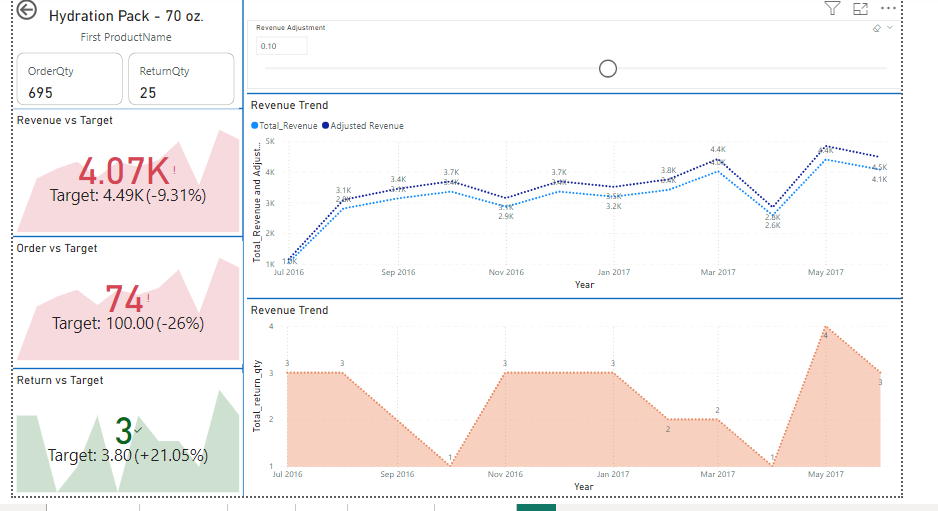

The dashboard page shown, as its layout file describes it:
{"tool":"powerbi","page":{"name":"Products","canvas":[1280,720],"ordinal":1},"visuals":[{"type":"card","fields":{"Values":["Min(d- Products.ProductName)"]},"box":[0,0,325.4,76.3],"z":0},{"type":"lineChart","title":"Revenue Trend","fields":{"Y":["All Measures.Total_Revanue","All Measures.Adjusted Revenue"],"Category":["d- Calendar.Start of Month.Variation.Date Hierarchy.Year","d- Calendar.Start of Month.Variation.Date Hierarchy.Quarter","d- Calendar.Start of Month.Variation.Date Hierarchy.Month","d- Calendar.Start of Month.Variation.Date Hierarchy.Day"]},"box":[337,146.9,943.2,282.2],"z":1000},{"type":"kpi","title":"Revenue vs Target","fields":{"Indicator":["All Measures.Total_Revenue"],"TrendLine":["d- Calendar.Start of Month"],"Goal":["All Measures.Target Revenue"]},"box":[0,168.5,331.2,177.1],"z":2000},{"type":"shape","box":[337,429.1,943.2,13],"z":3000},{"type":"areaChart","title":"Revenue Trend","fields":{"Category":["d- Calendar.Start of Month.Variation.Date Hierarchy.Year","d- Calendar.Start of Month.Variation.Date Hierarchy.Quarter","d- Calendar.Start of Month.Variation.Date Hierarchy.Month","d- Calendar.Start of Month.Variation.Date Hierarchy.Day"],"Y":["All Measures.Total_return_qty"]},"box":[337,442.1,943.2,277.9],"z":4000},{"type":"shape","box":[325.4,0,11.5,720],"z":5000},{"type":"shape","box":[0,339.8,331.2,13],"z":6000},{"type":"kpi","title":"Return vs Target","fields":{"TrendLine":["d- Calendar.Start of Month"],"Goal":["All Measures.Target_return"],"Indicator":["All Measures.Total_return_qty"]},"box":[0,542.9,331.2,177.1],"z":7000},{"type":"kpi","title":"Order vs Target","fields":{"TrendLine":["d- Calendar.Start of Month"],"Indicator":["All Measures.Total_Order_Qty"],"Goal":["All Measures.Target Order"]},"box":[0,352.8,331.2,177.1],"z":8000},{"type":"shape","box":[0,155.5,331.2,13],"z":9000},{"type":"shape","box":[0,529.9,331.2,13],"z":10000},{"type":"actionButton","box":[0,0,59.7,39.3],"z":11000},{"type":"cardVisual","fields":{"Data":["Sum(f-sales.OrderQuantity)","Sum(f-Returns.ReturnQuantity)"]},"box":[0,76.3,325.4,86.4],"z":14000},{"type":"shape","box":[337,133.9,943.2,13],"z":15000},{"type":"slicer","fields":{"Values":["Revenue Adjustment.Revenue Adjustment"]},"box":[337,34.6,943.2,99.4],"z":16000}]}

Visuals, with their boxes on the page's 1280x720 design canvas (x1, y1, x2, y2). These are canvas units, not pixel positions in the 938x511 screenshot, which may show the page scaled, cropped or inside an application window:
card - Min(d- Products.ProductName): <box>0,0,325,76</box>
"Revenue Trend" lineChart: <box>337,147,1280,429</box>
"Revenue vs Target" kpi: <box>0,168,331,346</box>
shape: <box>337,429,1280,442</box>
"Revenue Trend" areaChart: <box>337,442,1280,720</box>
shape: <box>325,0,337,720</box>
shape: <box>0,340,331,353</box>
"Return vs Target" kpi: <box>0,543,331,720</box>
"Order vs Target" kpi: <box>0,353,331,530</box>
shape: <box>0,156,331,168</box>
shape: <box>0,530,331,543</box>
actionButton: <box>0,0,60,39</box>
cardVisual - Sum(f-sales.OrderQuantity) x Sum(f-Returns.ReturnQuantity): <box>0,76,325,163</box>
shape: <box>337,134,1280,147</box>
slicer - Revenue Adjustment.Revenue Adjustment: <box>337,35,1280,134</box>
